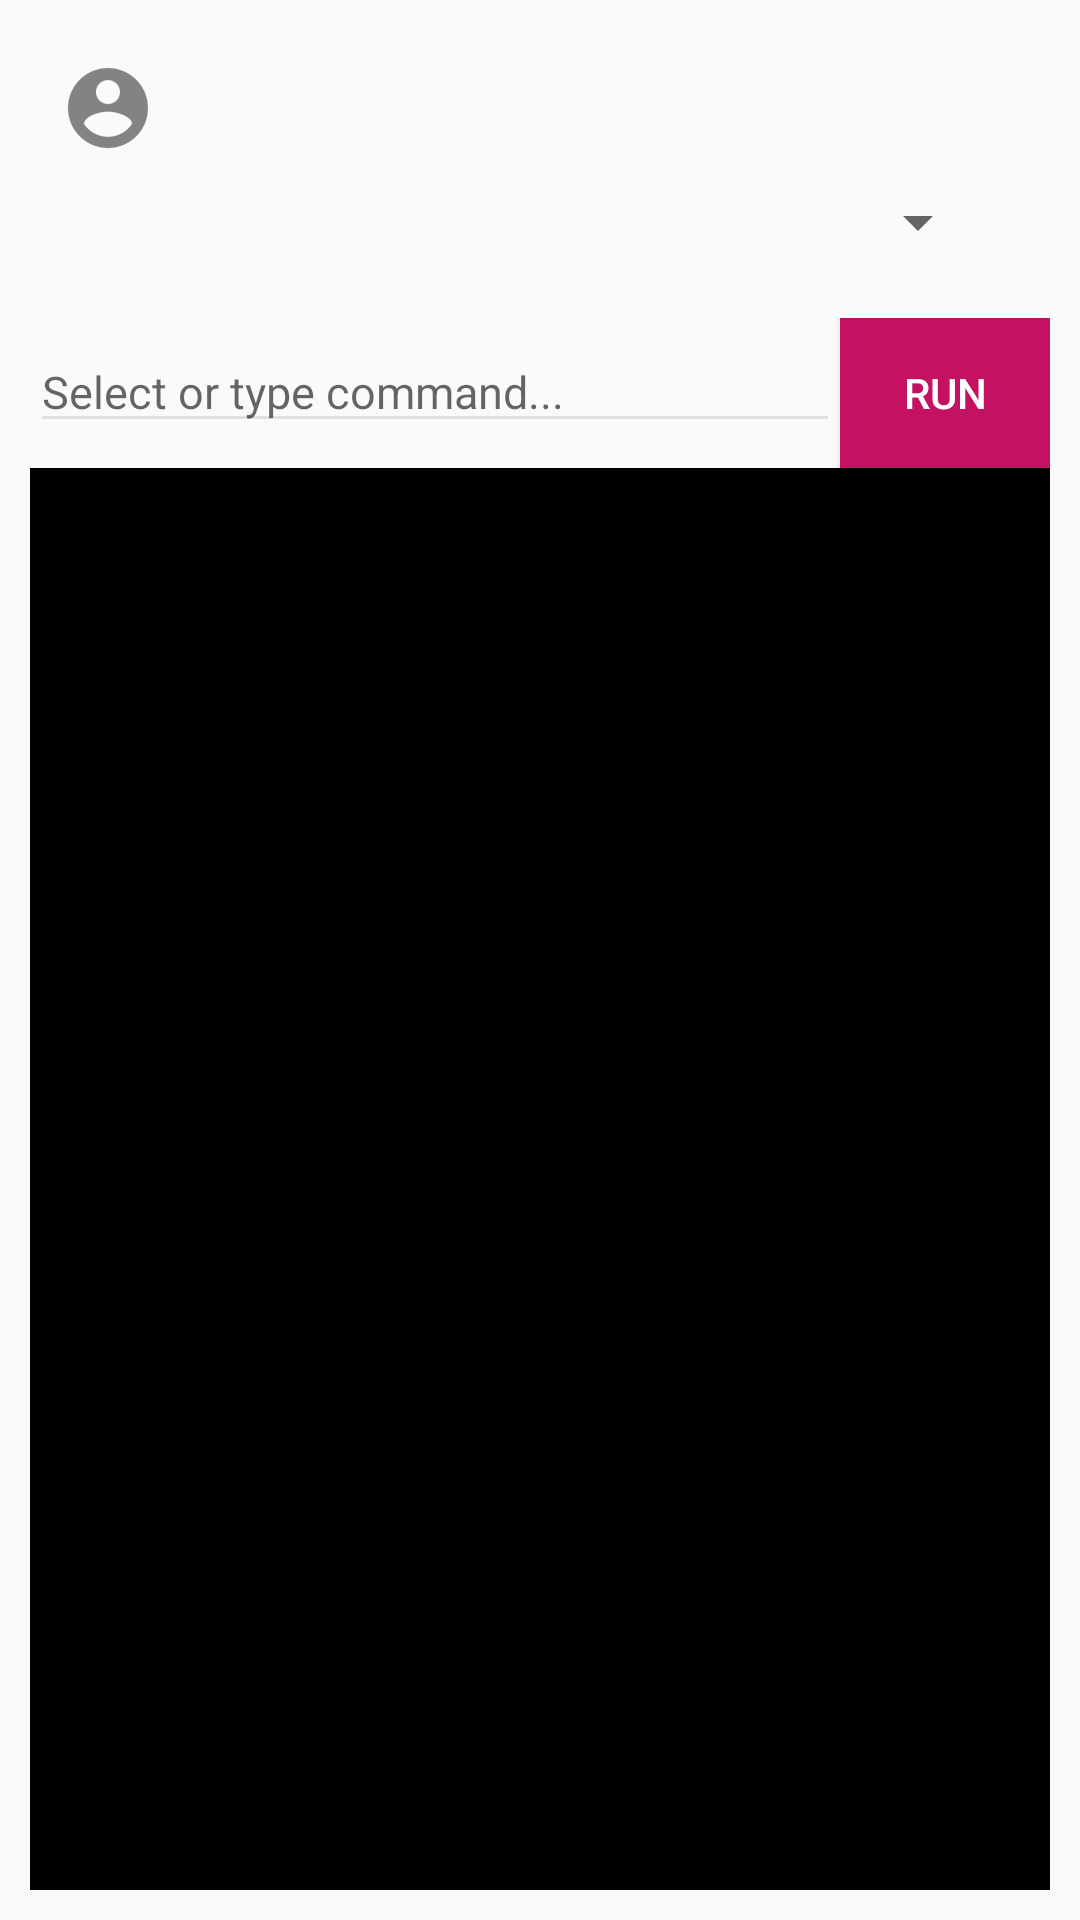

Icons on this 1080×1920 Android screen, each with its box as box(x1, y1, x2, y2):
account circle: box(68, 68, 148, 148)
